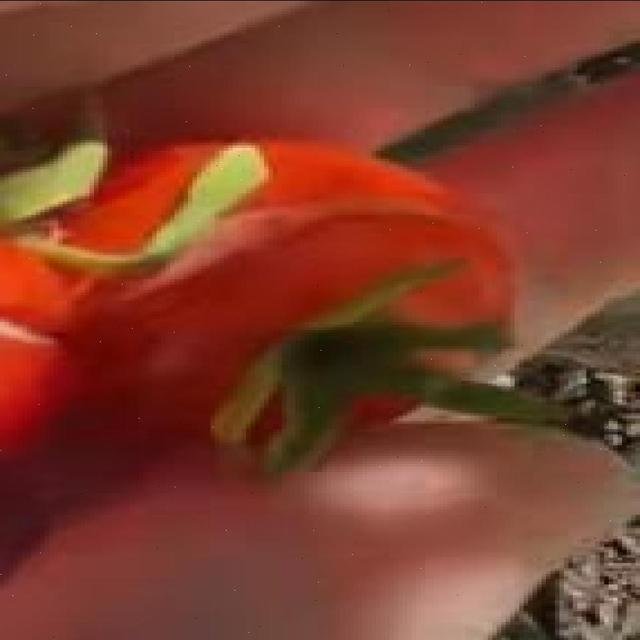Cracking Fruit: (75, 118, 331, 196)
